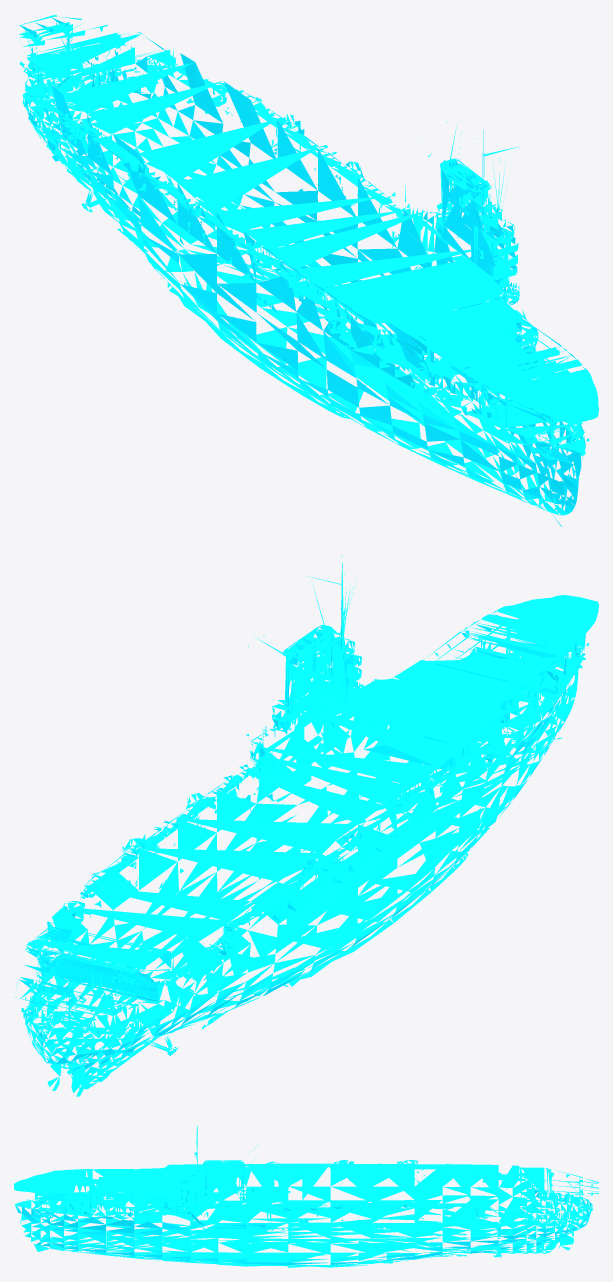
File: Bearn.glb
3 views of the same model, one above another, from view 1: azimuth 30°, elevation 25°; view 2: azimuth 150°, elevation 25°; view 3: azimuth 270°, elevation 25° (orthographic). The views are drawn at different scales.
Size of the model in its own units: 2.53 by 3.36 by 12.17.
